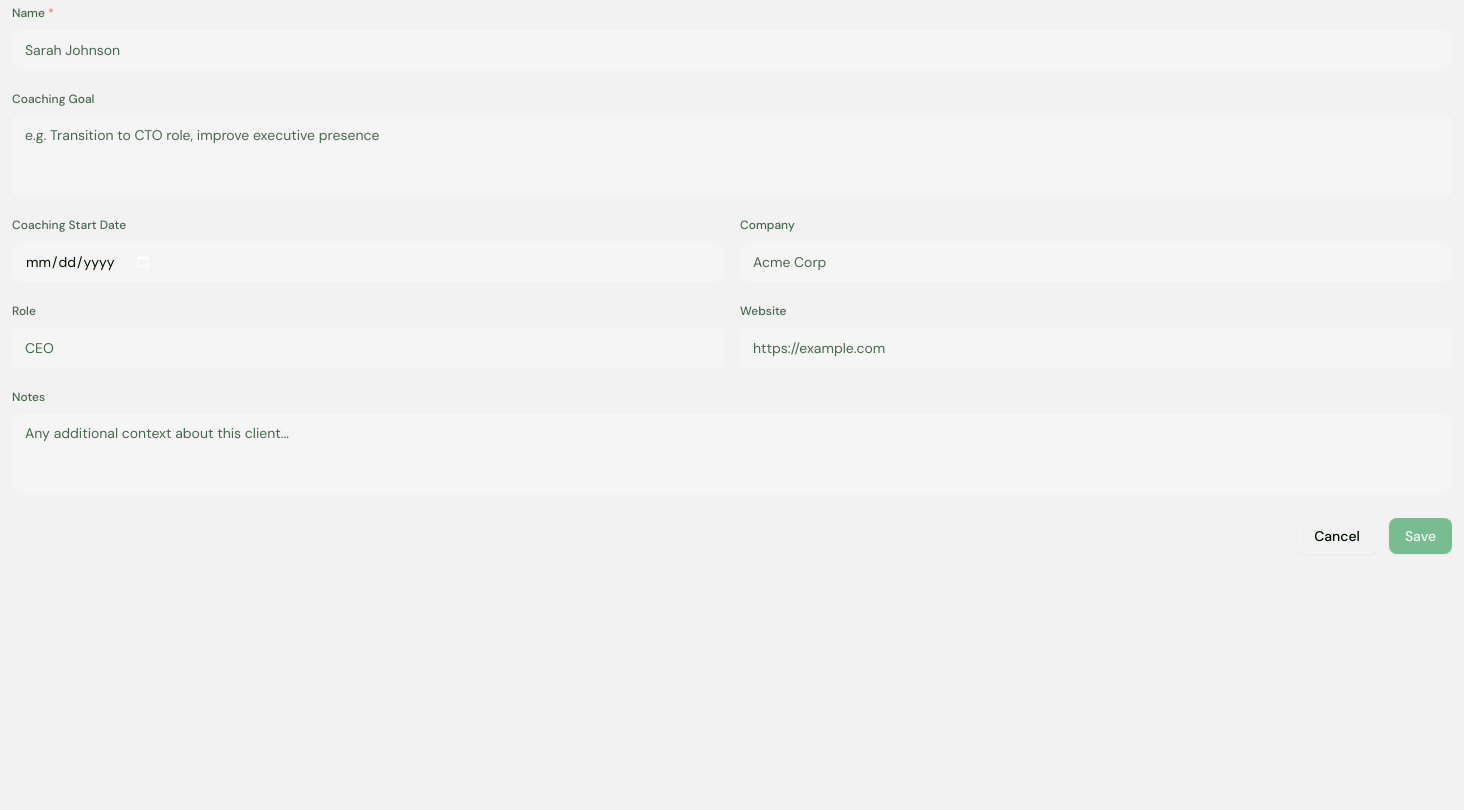
it: ClientForm › Form Validation › should show error when name is too short
Type "A" into the field labelled "Name *".
click(732, 50); type("A")  # box [12,30,1452,70]
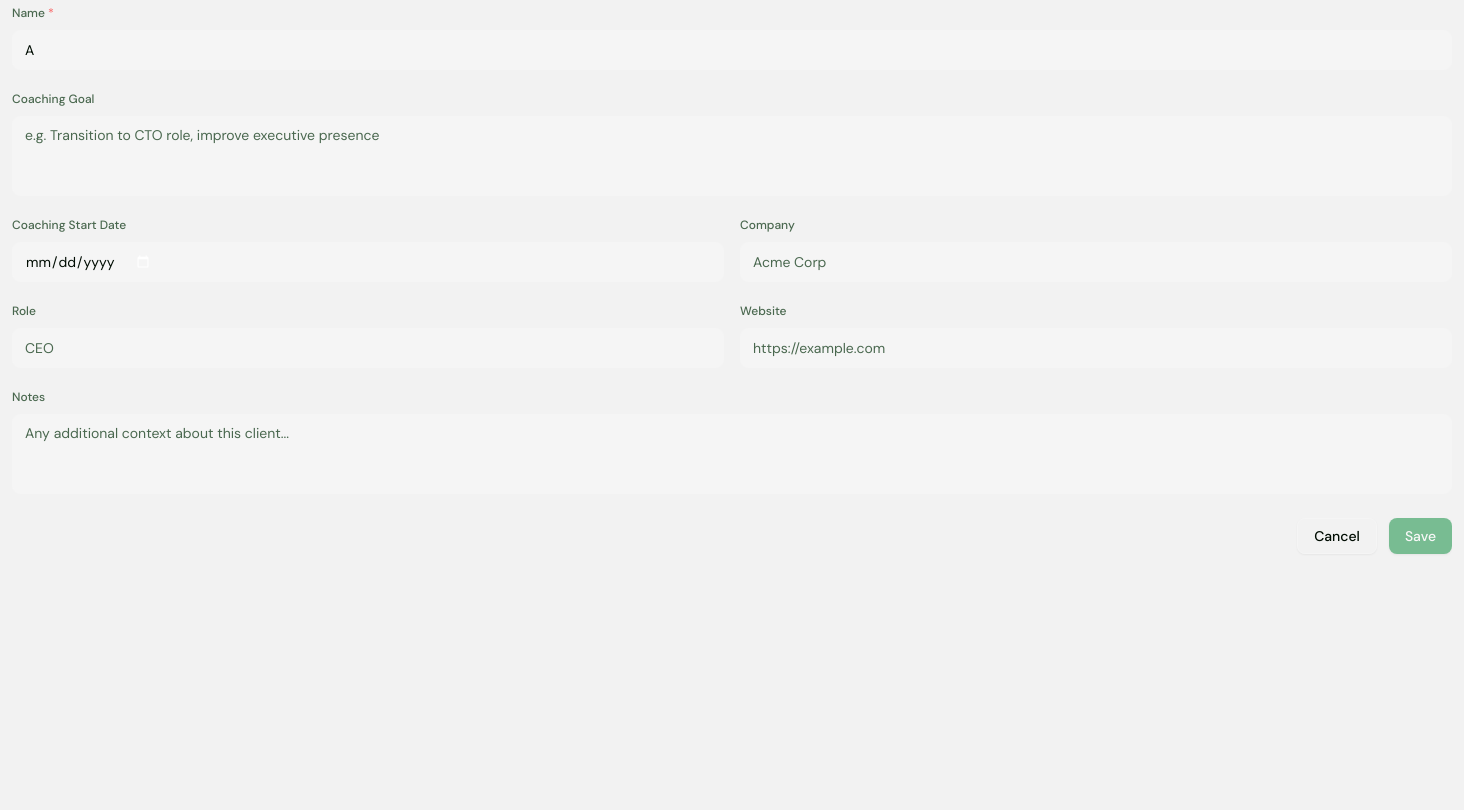
Leave the field labelled "Name *", box [12,30,1452,70]
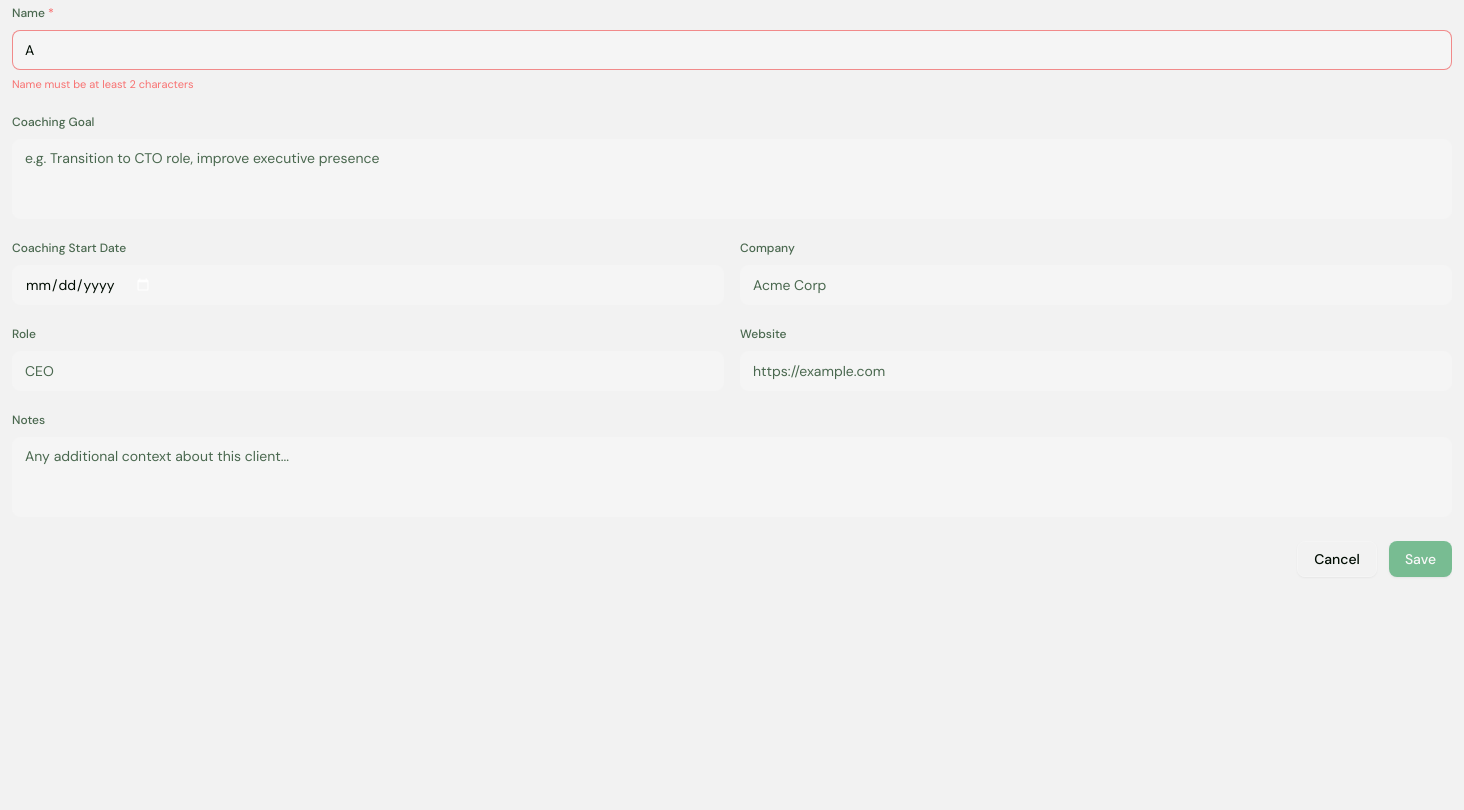
Result: the text "Name must be at least 2 characters" is shown at [12,77,194,91]
